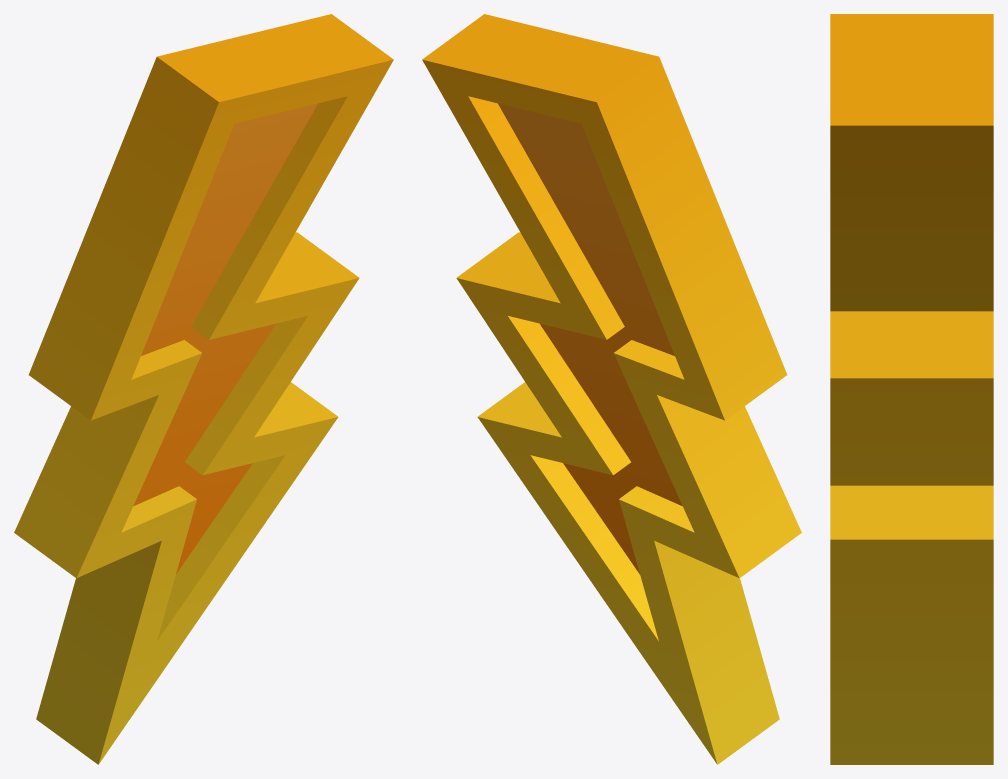
The model's file is Collectable_Lightning_03.fbx.
3 views of the same model, side by side, from view 1: azimuth 30°, elevation 25°; view 2: azimuth 150°, elevation 25°; view 3: azimuth 270°, elevation 25° (orthographic). The views are drawn at different scales.
Visible parts, largest first — view 1: Collectable_Lightning_03; view 2: Collectable_Lightning_03; view 3: Collectable_Lightning_03.
Boxes of the visible parts, <box> form: Collectable_Lightning_03: <box>14,14,393,764</box>; Collectable_Lightning_03: <box>422,14,801,764</box>; Collectable_Lightning_03: <box>830,14,993,764</box>.
Size of the model in its own units: 40.24 by 76.67 by 13.68.
